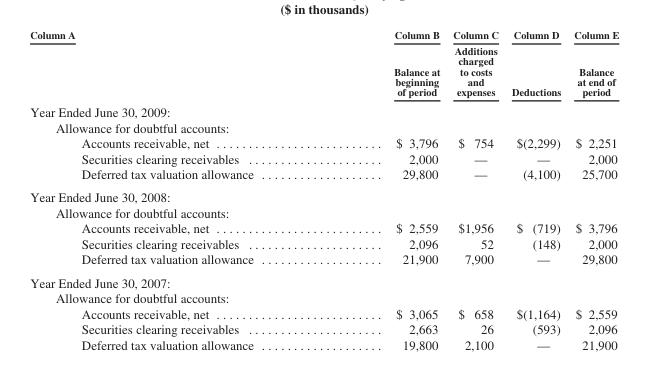table: (29, 28, 618, 351)
table column: (29, 28, 323, 351), (323, 28, 445, 351), (504, 28, 566, 351), (445, 28, 504, 351), (566, 28, 618, 351)
table column header: (29, 28, 618, 101)
table projected row header: (29, 185, 618, 204), (29, 270, 618, 289), (29, 101, 618, 119), (29, 204, 618, 220), (29, 289, 618, 305), (29, 119, 618, 134)
table row: (29, 28, 618, 101), (29, 165, 618, 185), (29, 185, 618, 204), (29, 251, 618, 270), (29, 270, 618, 289), (29, 101, 618, 119), (29, 134, 618, 150), (29, 204, 618, 220), (29, 235, 618, 251), (29, 289, 618, 305), (29, 320, 618, 336), (29, 119, 618, 134), (29, 150, 618, 165), (29, 220, 618, 235), (29, 305, 618, 320), (29, 336, 618, 351)
